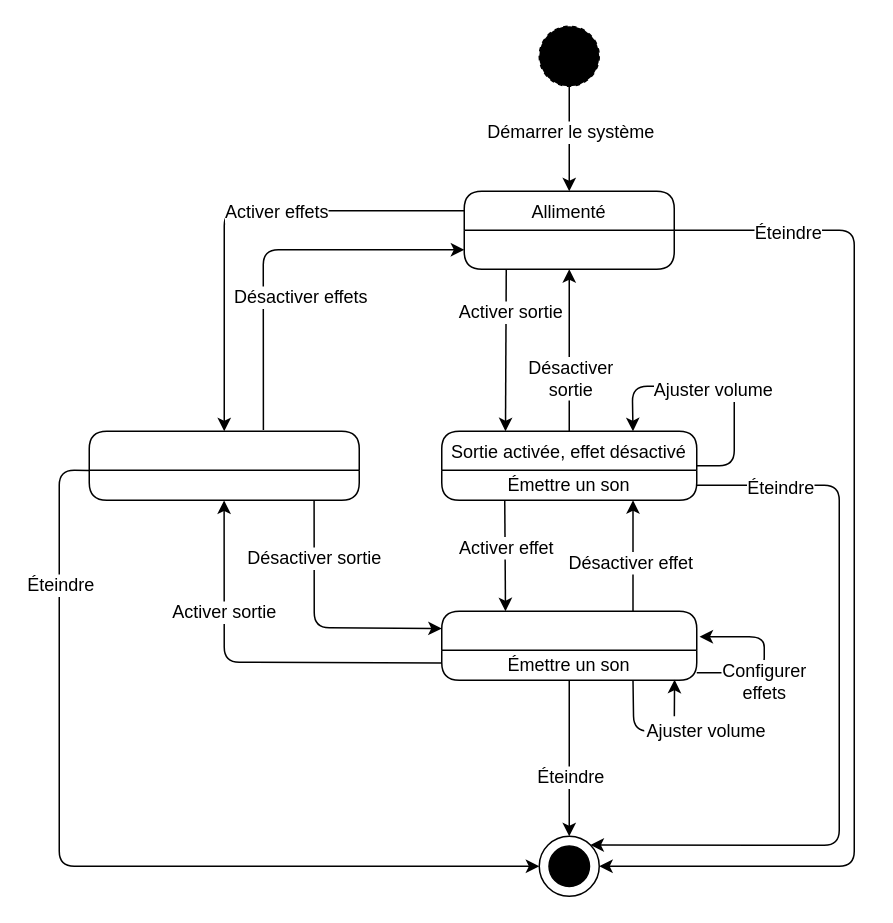
Image size: 893x923. Some labels were removed from this diagram. Here are the shapes that lost their labels. From the top down, the box of each, then its label:
(88, 430, 359, 500): Effet activé, sortie désactivée
(440, 610, 697, 680): Sortie activée, effet activé
